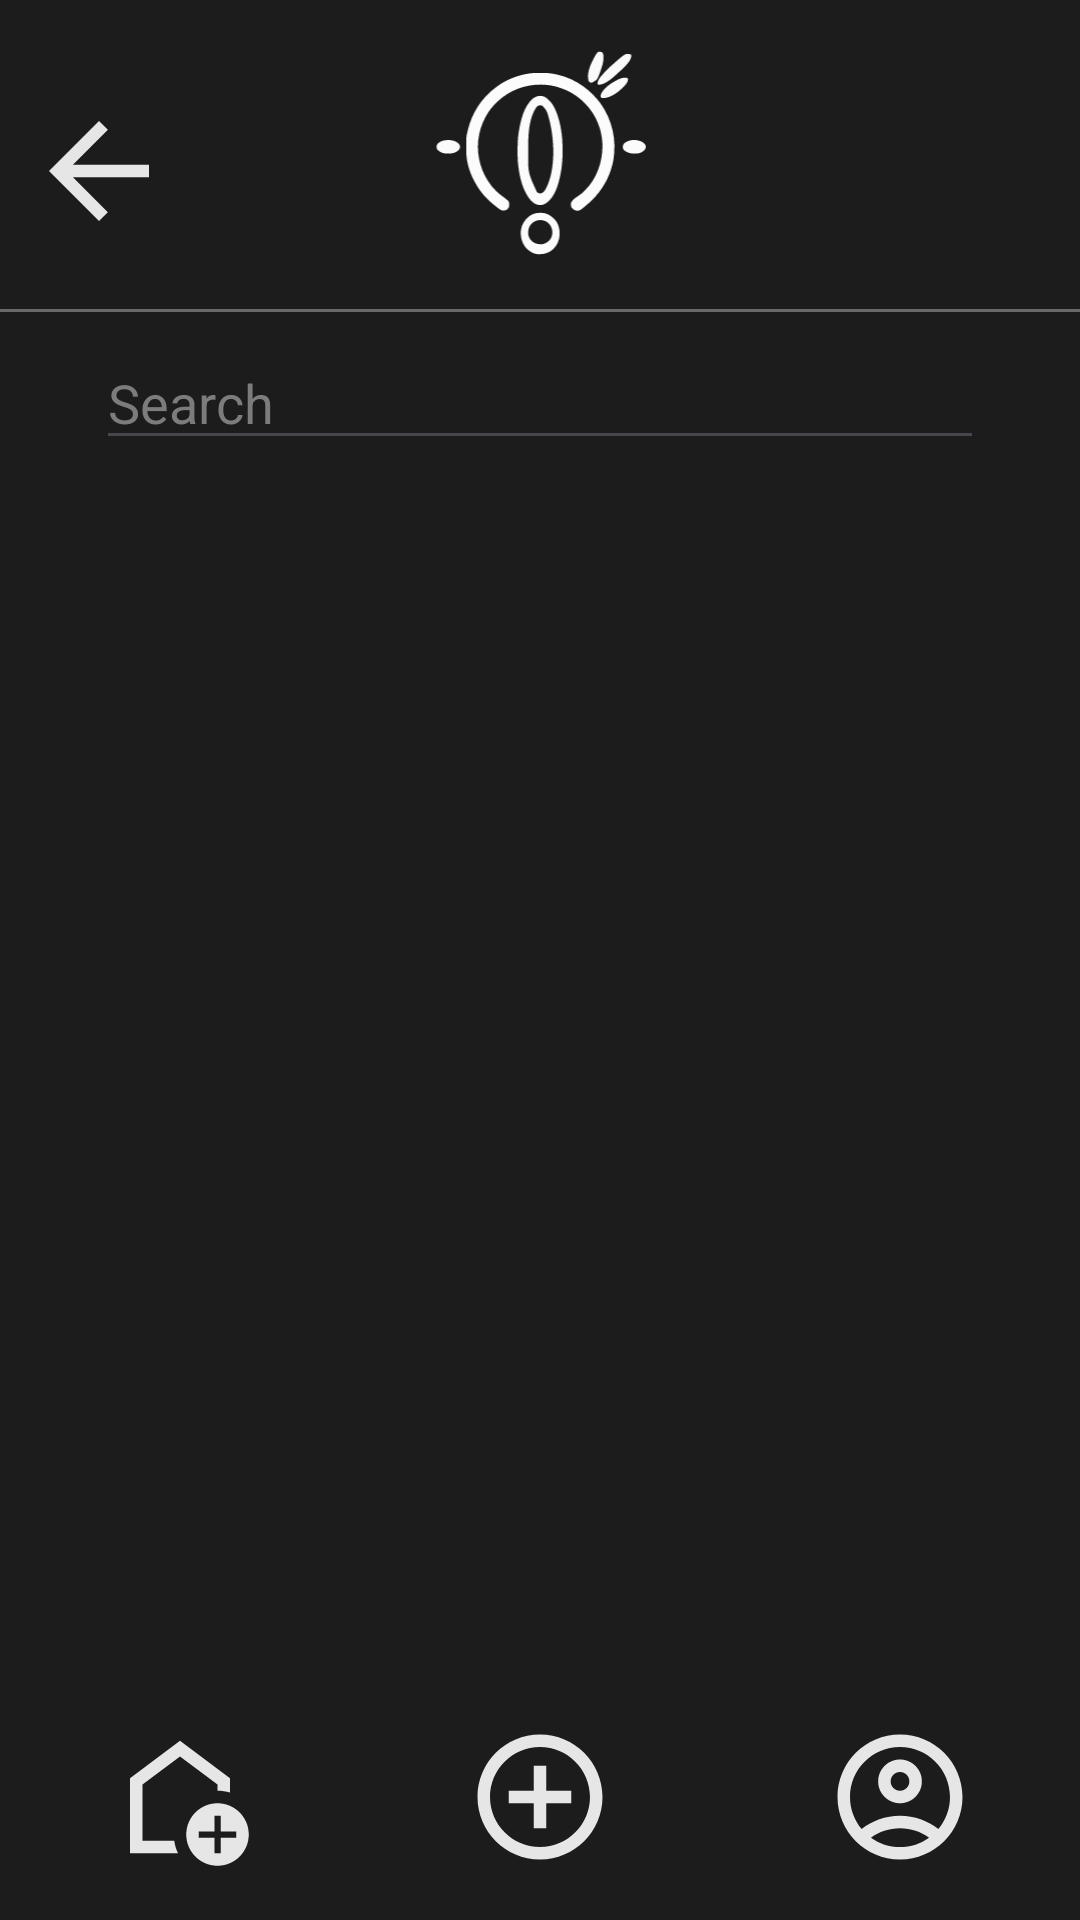

Screen size 1080*1920. Icon name, then its box in pixels as (x1, y1, x2, y2):
account circle: (837, 1734, 963, 1860)
add circle: (477, 1734, 603, 1860)
add home: (130, 1741, 249, 1866)
back: (49, 121, 149, 221)
